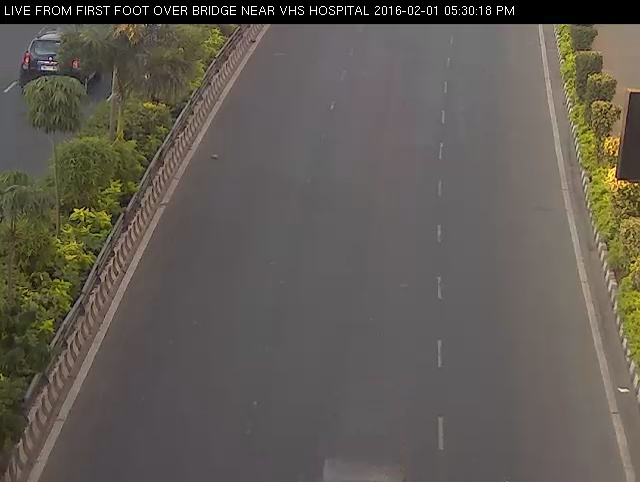Car: (304, 433, 421, 482)
